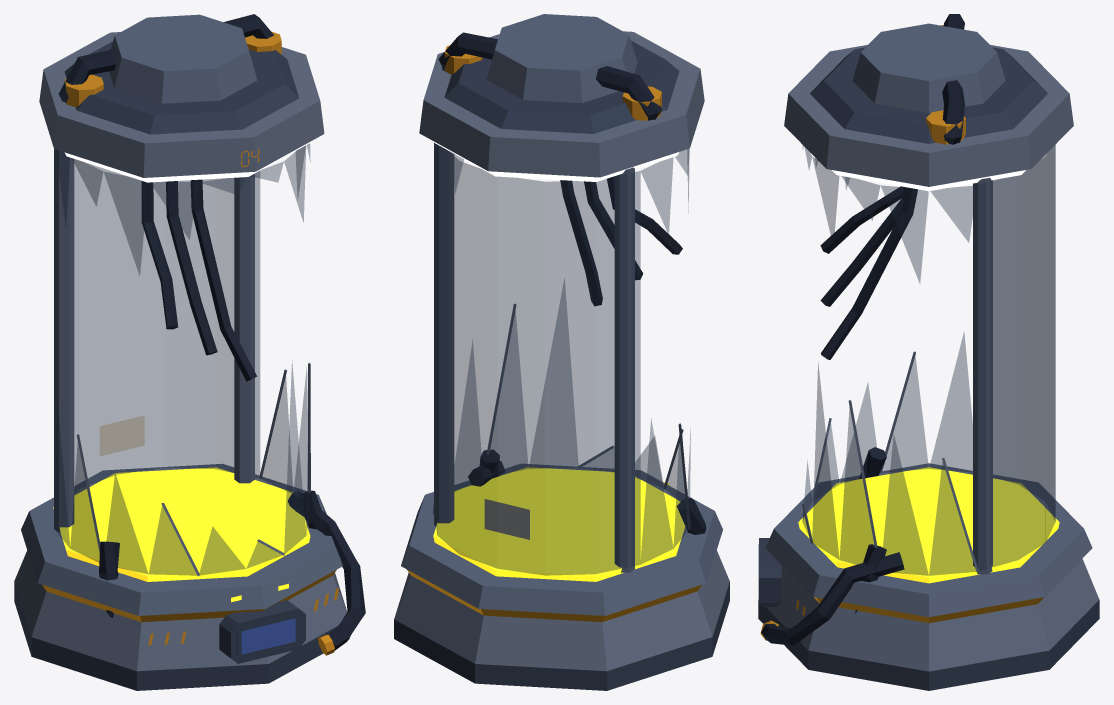
The model's file is lab_cocoon_breached.glb.
3 renders of one model, left to right at view 1: azimuth 30°, elevation 25°; view 2: azimuth 150°, elevation 25°; view 3: azimuth 270°, elevation 25°, orthographic.
Parts seen in each view (by area): view 1: broken_glass, fracture_edge, crown, alert, foot, crown_hose, digit, warning_band, print.001, print, head_gasket; view 2: broken_glass, fracture_edge, crown, alert, foot, crown_hose, warning_band, print.001, digit, head_gasket; view 3: broken_glass, fracture_edge, crown, alert, foot, crown_hose, warning_band, head_gasket, digit.
Boxes of the visible parts, left/top/right/bottom form: broken_glass: left=54, top=143, right=310, bottom=575; fracture_edge: left=21, top=14, right=342, bottom=615; crown: left=14, top=32, right=347, bottom=671; alert: left=53, top=467, right=310, bottom=602; foot: left=14, top=41, right=349, bottom=690; crown_hose: left=58, top=14, right=365, bottom=650; digit: left=64, top=31, right=338, bottom=655; warning_band: left=42, top=569, right=336, bottom=622; print.001: left=99, top=415, right=144, bottom=456; print: left=241, top=618, right=295, bottom=654; head_gasket: left=64, top=141, right=310, bottom=182; broken_glass: left=435, top=144, right=690, bottom=575; fracture_edge: left=401, top=14, right=722, bottom=615; crown: left=394, top=31, right=729, bottom=671; alert: left=433, top=467, right=685, bottom=581; foot: left=394, top=40, right=729, bottom=690; crown_hose: left=438, top=32, right=706, bottom=534; warning_band: left=407, top=569, right=701, bottom=622; print.001: left=484, top=499, right=529, bottom=539; digit: left=444, top=45, right=661, bottom=120; head_gasket: left=432, top=141, right=679, bottom=181; broken_glass: left=802, top=145, right=1055, bottom=575; fracture_edge: left=765, top=23, right=1092, bottom=617; crown: left=766, top=45, right=1099, bottom=671; alert: left=798, top=467, right=1059, bottom=583; foot: left=758, top=47, right=1099, bottom=690; crown_hose: left=761, top=14, right=964, bottom=645; warning_band: left=814, top=597, right=1043, bottom=623; head_gasket: left=832, top=170, right=1025, bottom=191; digit: left=760, top=25, right=965, bottom=640.
Bounding box in the file's own units: 2.4 × 4.4 × 2.4.
